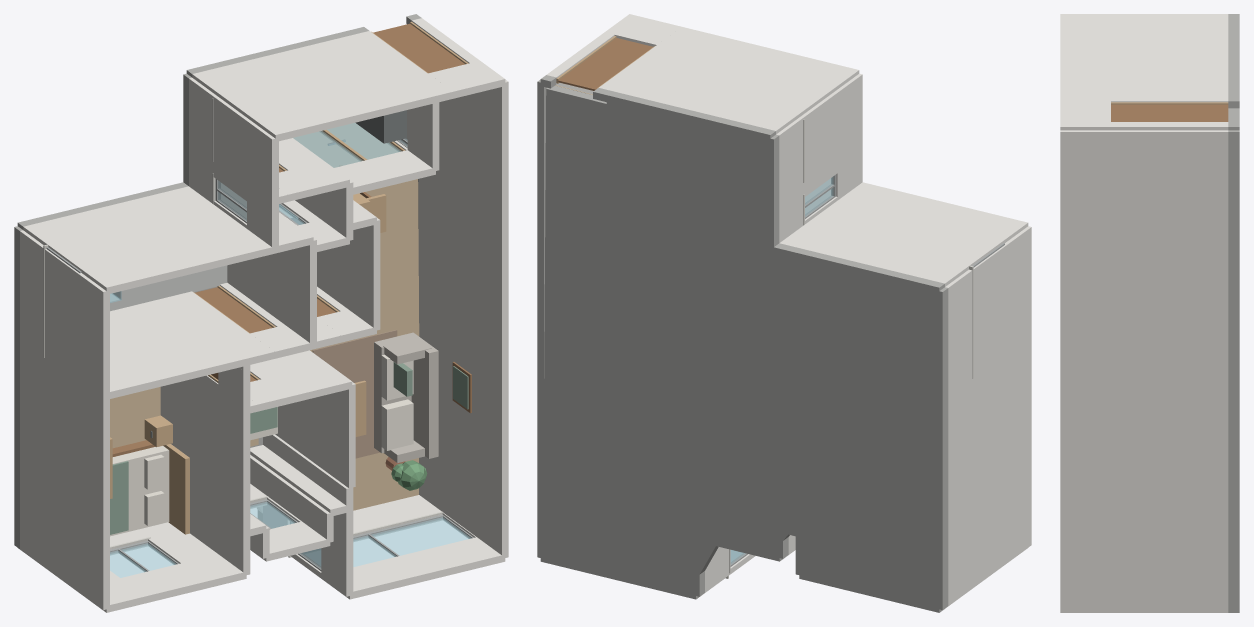
The model's file is reconstructed-floorplan.glb.
3 views of the same model, side by side, from view 1: azimuth 30°, elevation 25°; view 2: azimuth 150°, elevation 25°; view 3: azimuth 270°, elevation 25° (orthographic).
Visible parts, largest first — view 1: 421-Wall-6.1-0, 1181-Wall-31.1-0, 630-Wall-13.1-0, 250-Wall-1.1-0, 2158-Room-slab-6-floor-finish-0, 706-Wall-17.1-0, 972-Wall-25.1-0, 1257-Wall-34.1-0, 1822-Wall-11.1-with-Window-4-opening-0, 383-Wall-4.1-0, 820-Wall-20.1-0, 1200-Wall-32.1-0 (+50 smaller); view 2: 89-Unified-floor-slab-0, 1181-Wall-31.1-0, 630-Wall-13.1-0, 250-Wall-1.1-0, 706-Wall-17.1-0, 383-Wall-4.1-0, 1542-Door-7-0, 478-Wall-8.1-0, 345-Wall-3.1-0, 3579-Door-7-head-wall-0, 364-Wall-3.2-0, 535-Window-head-wall-8.1-0; view 3: 421-Wall-6.1-0, 250-Wall-1.1-0, 89-Unified-floor-slab-0, 1542-Door-7-0, 345-Wall-3.1-0, 364-Wall-3.2-0, 3579-Door-7-head-wall-0, 3595-Door-7-frame-and-hardware-0, 1822-Wall-11.1-with-Window-4-opening-0.
Part boxes in pixels (<box>): 421-Wall-6.1-0: <box>418,79,508,558</box>; 1181-Wall-31.1-0: <box>20,336,109,610</box>; 630-Wall-13.1-0: <box>23,186,275,294</box>; 250-Wall-1.1-0: <box>192,35,435,141</box>; 2158-Room-slab-6-floor-finish-0: <box>294,123,419,510</box>; 706-Wall-17.1-0: <box>20,230,109,397</box>; 972-Wall-25.1-0: <box>160,378,250,534</box>; 1257-Wall-34.1-0: <box>106,298,246,399</box>; 1822-Wall-11.1-with-Window-4-opening-0: <box>292,495,505,599</box>; 383-Wall-4.1-0: <box>189,78,278,201</box>; 820-Wall-20.1-0: <box>227,246,316,346</box>; 1200-Wall-32.1-0: <box>275,382,355,488</box>; 89-Unified-floor-slab-0: <box>537,75,948,612</box>; 1181-Wall-31.1-0: <box>948,332,1031,605</box>; 630-Wall-13.1-0: <box>780,182,1028,286</box>; 250-Wall-1.1-0: <box>616,31,859,134</box>; 706-Wall-17.1-0: <box>945,226,1031,392</box>; 383-Wall-4.1-0: <box>776,73,862,197</box>; 1542-Door-7-0: <box>557,38,652,90</box>; 478-Wall-8.1-0: <box>779,137,862,215</box>; 345-Wall-3.1-0: <box>599,27,698,91</box>; 3579-Door-7-head-wall-0: <box>614,16,681,46</box>; 364-Wall-3.2-0: <box>546,14,639,84</box>; 535-Window-head-wall-8.1-0: <box>836,155,862,196</box>; 421-Wall-6.1-0: <box>1060,130,1228,610</box>; 250-Wall-1.1-0: <box>1060,14,1228,92</box>; 89-Unified-floor-slab-0: <box>1228,14,1239,612</box>; 1542-Door-7-0: <box>1111,104,1228,121</box>; 345-Wall-3.1-0: <box>1060,93,1228,102</box>; 364-Wall-3.2-0: <box>1060,122,1228,130</box>; 3579-Door-7-head-wall-0: <box>1060,101,1110,121</box>; 3595-Door-7-frame-and-hardware-0: <box>1111,102,1228,104</box>; 1822-Wall-11.1-with-Window-4-opening-0: <box>1060,611,1228,612</box>.
Bounding box in the file's own units: 8.44 × 9.6 × 3.2.
